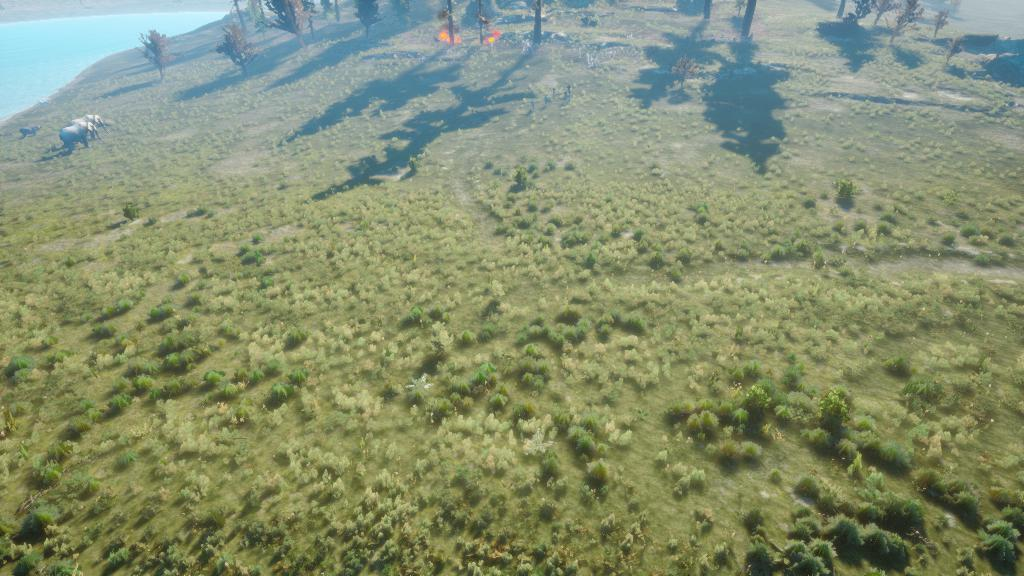Fire: (430, 22, 468, 53), (472, 23, 510, 52)
elephant: (50, 122, 106, 156), (66, 110, 113, 140)
hippopotamus: (17, 122, 45, 141)
